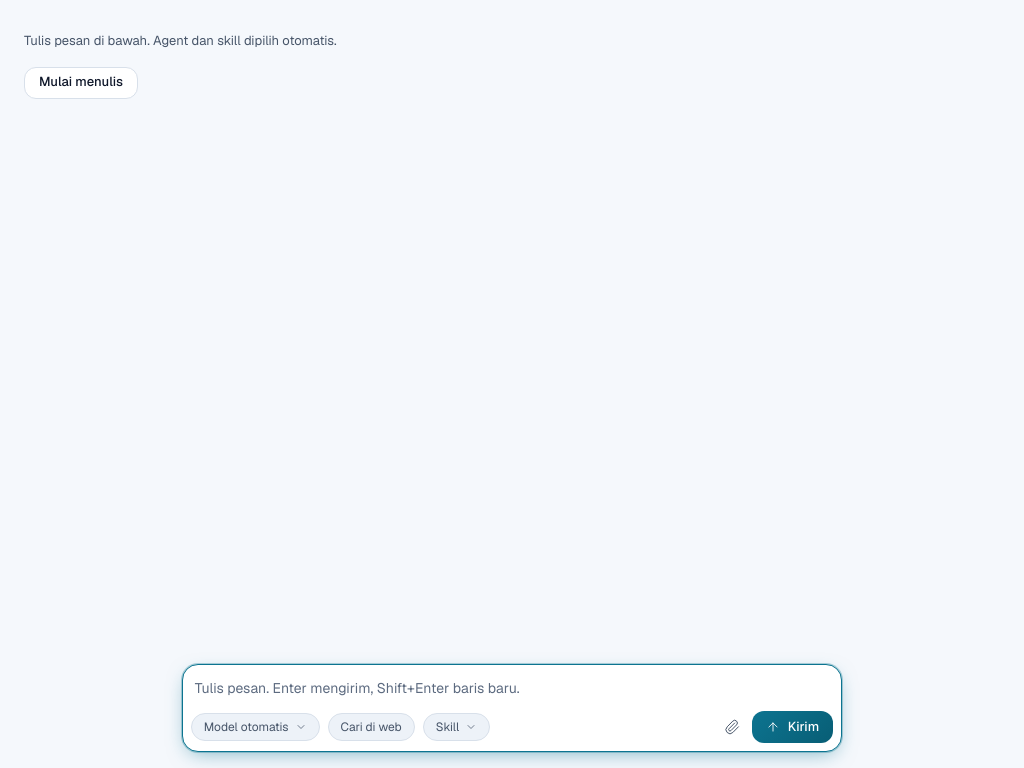
it: ChatScreen: kirim dan alirkan jawaban › gagal kirim: teks dikembalikan ke kolom dan toast menyebut langkah berikutnya
Type "Halo" into the text box labelled "pesan".
click(512, 688); type("Halo")  # box [191,673,833,703]
Then press Enter
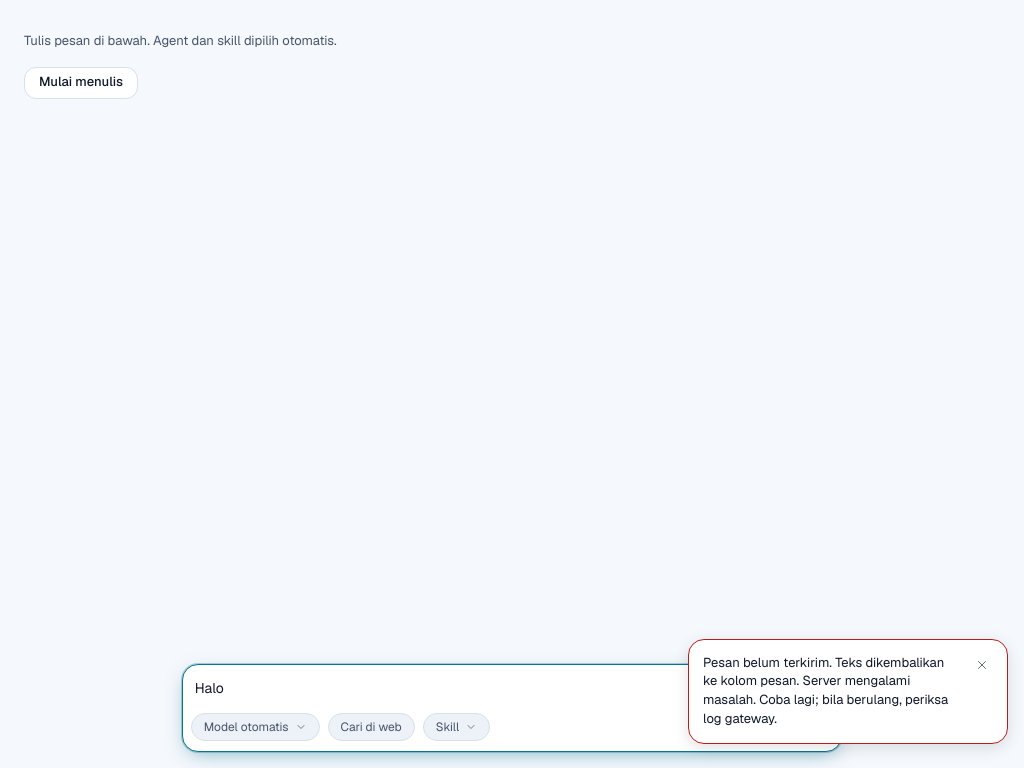
Check: the text "Pesan belum terkirim. Teks dikembalikan ke kolom pesan." is shown, box [703,654,948,727]
